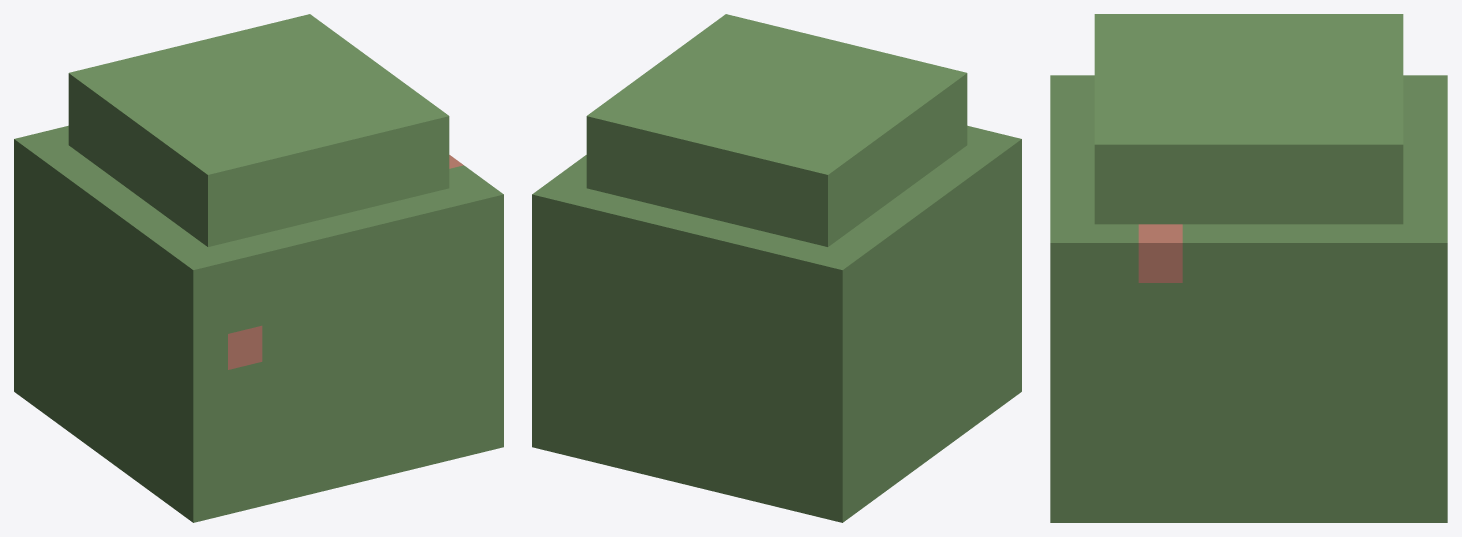
The model's file is serbal_05.glb.
3 views of the same model, side by side, from view 1: azimuth 30°, elevation 25°; view 2: azimuth 150°, elevation 25°; view 3: azimuth 270°, elevation 25° (orthographic). The views are drawn at different scales.
Parts seen in each view (by area): view 1: serbal_05; view 2: serbal_05; view 3: serbal_05.
Part boxes in pixels (left/top/right/bottom): serbal_05: left=14, top=14, right=503, bottom=522; serbal_05: left=532, top=14, right=1021, bottom=522; serbal_05: left=1050, top=14, right=1447, bottom=522.
Bounding box in the file's own units: 0.9 × 0.9 × 0.9.
